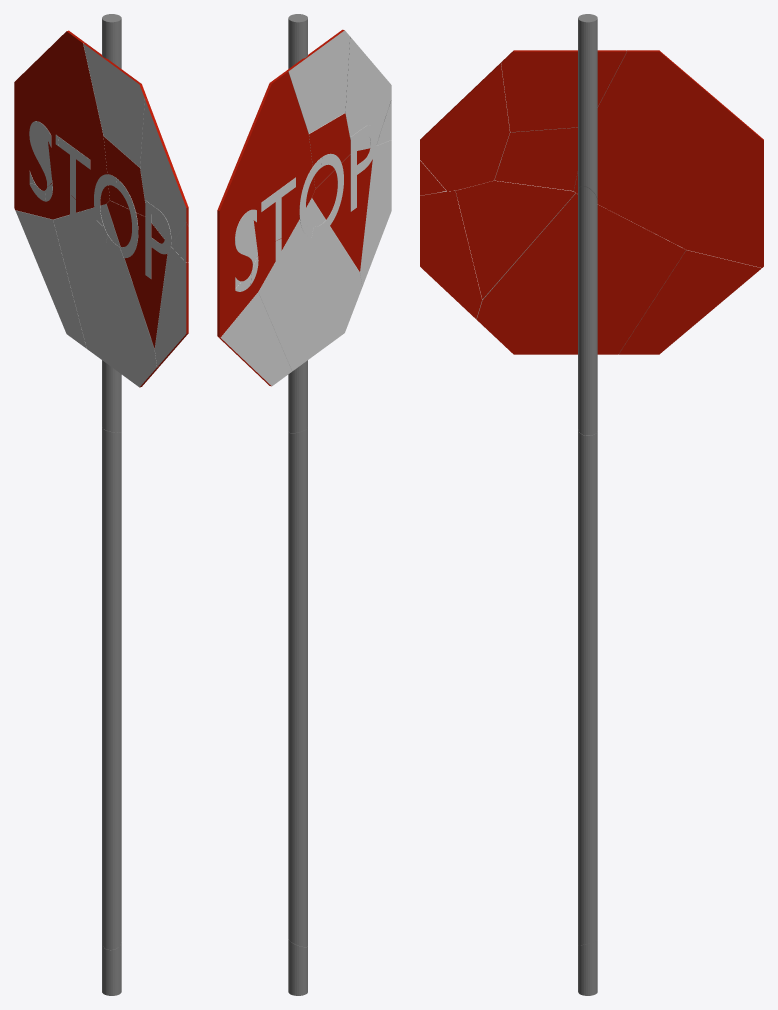
Rendered from StopSignScatter.fbx.
3 renders of one model, left to right at view 1: azimuth 30°, elevation 25°; view 2: azimuth 150°, elevation 25°; view 3: azimuth 270°, elevation 25°, orthographic.
Visible parts, largest first — view 1: StopSignMain_cell.003, StopSignPole_cell.003, StopSignMain_cell.001, StopSignMain_cell.002, StopSignMain_cell.008, StopSignMain_cell.004, StopSignMain_cell, StopSignMain_cell.007, StopSignMain_cell.005, StopSignPole_cell.001, STOPText_cell, StopSignPole_cell (+6 smaller); view 2: StopSignMain_cell.003, StopSignPole_cell.003, StopSignMain_cell.001, StopSignMain_cell.002, StopSignMain_cell, StopSignMain_cell.004, StopSignMain_cell.008, StopSignMain_cell.007, StopSignMain_cell.005, StopSignPole_cell.001, STOPText_cell, StopSignPole_cell.002 (+5 smaller); view 3: StopSignMain_cell.003, StopSignMain_cell.001, StopSignPole_cell.003, StopSignMain_cell.004, StopSignMain_cell.008, StopSignMain_cell.002, StopSignMain_cell, StopSignMain_cell.007, StopSignPole_cell.001, StopSignMain_cell.005, StopSignPole_cell, StopSignPole_cell.002.
Boxes of the visible parts, x1,y1,x2,y2 form: StopSignMain_cell.003: [14, 30, 109, 219]; StopSignPole_cell.003: [102, 428, 121, 949]; StopSignMain_cell.001: [53, 204, 159, 387]; StopSignMain_cell.002: [83, 42, 147, 167]; StopSignMain_cell.008: [140, 99, 188, 245]; StopSignMain_cell.004: [106, 200, 167, 348]; StopSignMain_cell: [15, 210, 86, 348]; StopSignMain_cell.007: [154, 247, 188, 366]; StopSignMain_cell.005: [103, 136, 145, 216]; StopSignPole_cell.001: [102, 360, 121, 432]; STOPText_cell: [145, 200, 171, 278]; StopSignPole_cell: [102, 14, 121, 68]; StopSignMain_cell.003: [217, 71, 315, 337]; StopSignPole_cell.003: [288, 428, 307, 946]; StopSignMain_cell.001: [258, 198, 362, 371]; StopSignMain_cell.002: [286, 29, 350, 133]; StopSignMain_cell: [219, 292, 291, 386]; StopSignMain_cell.004: [312, 148, 372, 271]; StopSignMain_cell.008: [345, 37, 391, 150]; StopSignMain_cell.007: [359, 140, 391, 286]; StopSignMain_cell.005: [309, 113, 350, 188]; StopSignPole_cell.001: [288, 360, 307, 432]; STOPText_cell: [350, 125, 376, 211]; StopSignPole_cell.002: [288, 939, 307, 995]; StopSignMain_cell.003: [573, 50, 763, 267]; StopSignMain_cell.001: [476, 193, 685, 354]; StopSignPole_cell.003: [578, 429, 597, 945]; StopSignMain_cell.004: [455, 180, 575, 299]; StopSignMain_cell.008: [420, 61, 510, 191]; StopSignMain_cell.002: [501, 50, 626, 132]; StopSignMain_cell: [618, 250, 761, 354]; StopSignMain_cell.007: [420, 190, 482, 319]; StopSignPole_cell.001: [578, 186, 597, 435]; StopSignMain_cell.005: [494, 127, 577, 190]; StopSignPole_cell: [578, 14, 597, 199]; StopSignPole_cell.002: [578, 940, 597, 995].
Bounding box in the file's own units: 17.37 × 888 × 284.
